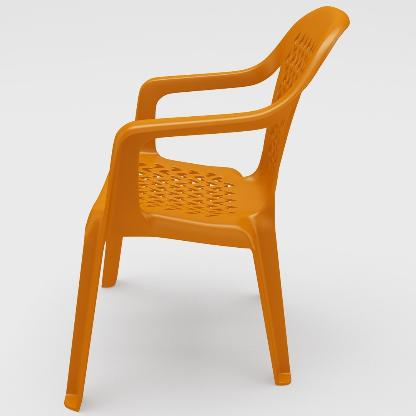chair: (65, 1, 350, 409)
